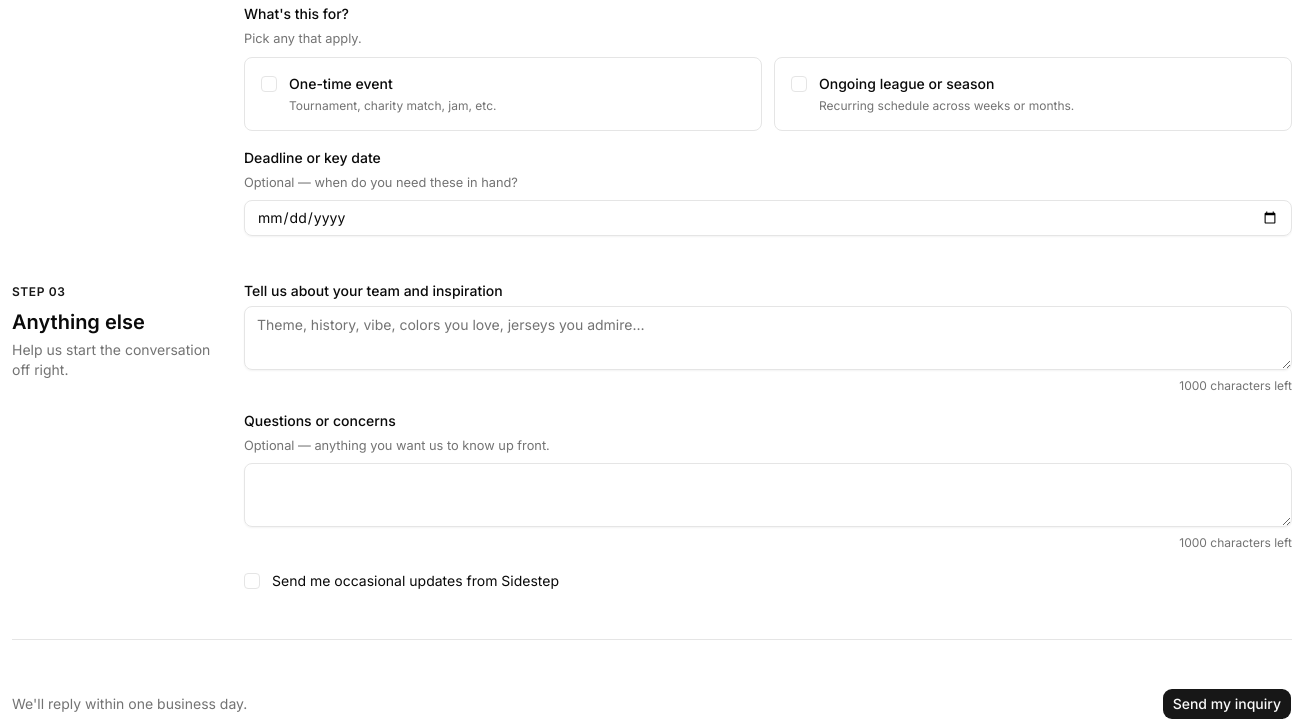
IntakeForm › surfaces RHF + zod validation errors when the user submits an empty form
(page scrolled)
Click the button "Send my inquiry": click(1227, 704) [1162,688,1292,719]
(page scrolled)
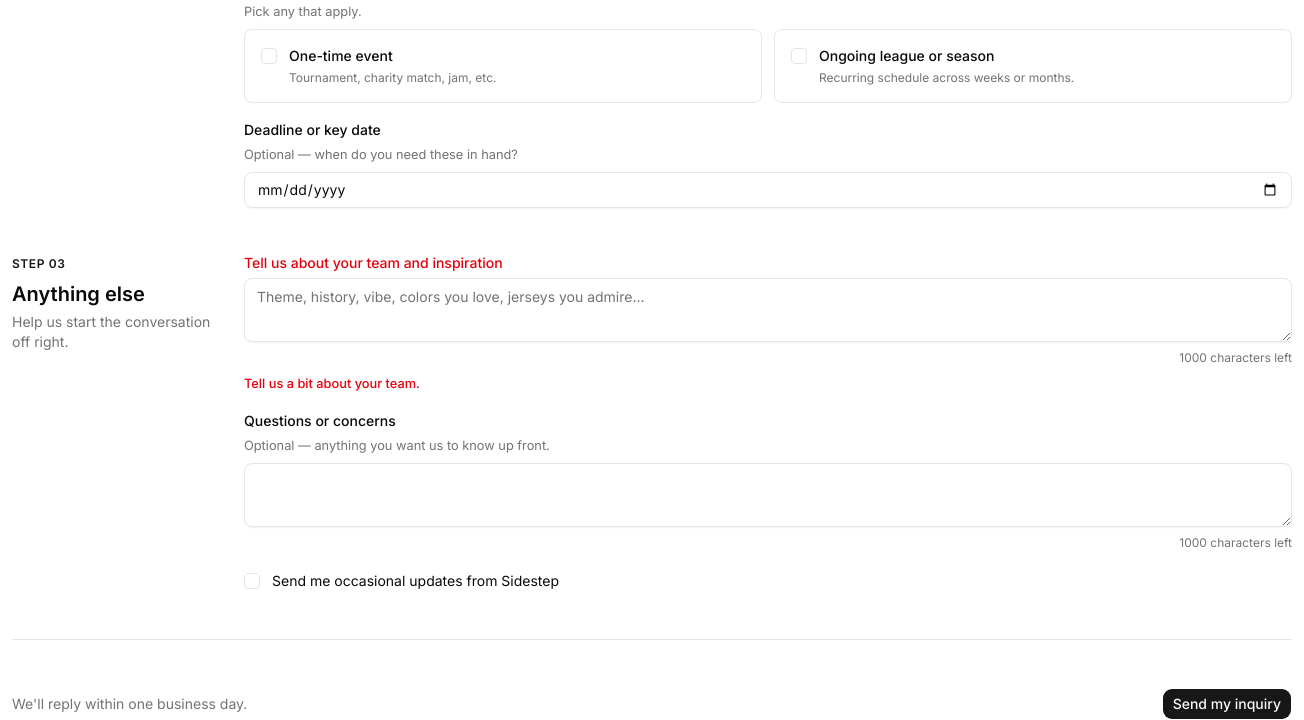
Check: the text "Tell us a bit about your team." is shown, box [244,376,420,391]
